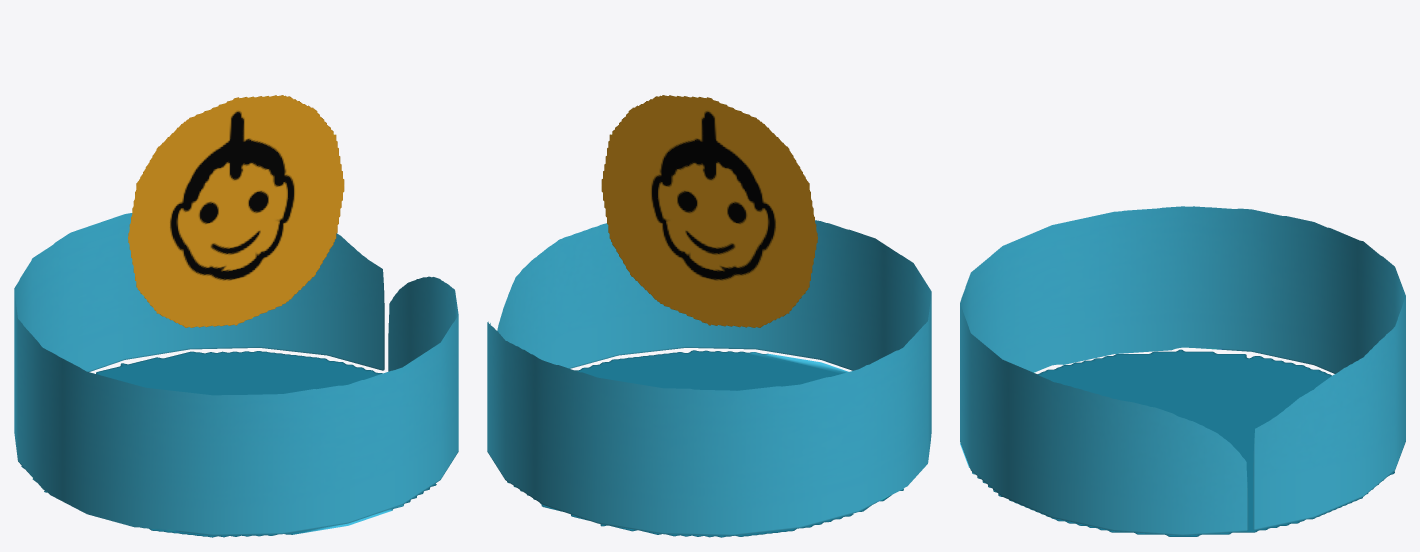
The model's file is okodomo01.fbx.
3 renders of one model, left to right at view 1: azimuth 30°, elevation 25°; view 2: azimuth 150°, elevation 25°; view 3: azimuth 270°, elevation 25°, orthographic.
Visible parts, largest first — view 1: pCylinder1, pPlane1; view 2: pCylinder1, pPlane1; view 3: pCylinder1.
Part boxes in pixels (x1,y1,x2,y2): pCylinder1: [14, 213, 458, 537]; pPlane1: [128, 95, 344, 327]; pCylinder1: [487, 220, 931, 537]; pPlane1: [601, 95, 817, 327]; pCylinder1: [960, 206, 1405, 536].
Size of the model in its own units: 5.85 by 5.01 by 5.85.
